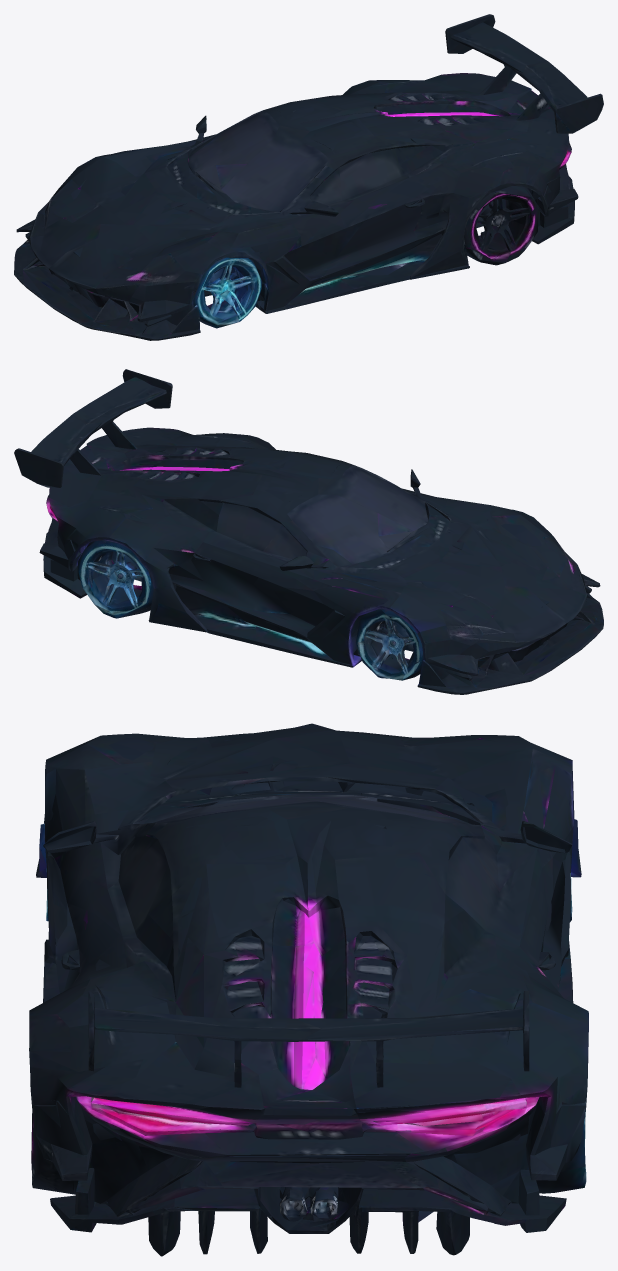
Rendered from mx_velocity_car.glb.
3 views of the same model, one above another, from view 1: azimuth 30°, elevation 25°; view 2: azimuth 150°, elevation 25°; view 3: azimuth 270°, elevation 25° (orthographic). The views are drawn at different scales.
Size of the model in its own units: 1.9 by 0.4854 by 0.9145.
1 material, 1 textured.
